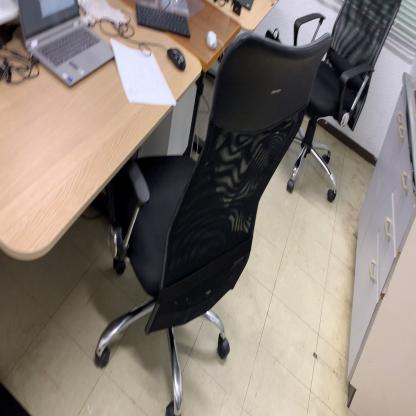chair: (93, 31, 331, 416), (282, 0, 404, 196)
